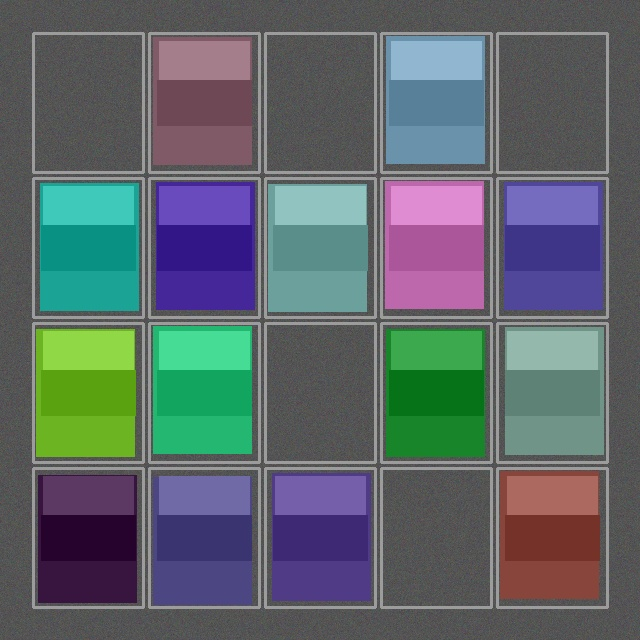space-empty: (35, 35, 141, 170), (267, 35, 373, 170), (499, 35, 605, 170), (267, 325, 373, 460), (383, 470, 489, 605)
space-occupied: (151, 35, 257, 170), (383, 35, 489, 170), (35, 180, 141, 315), (151, 180, 257, 315), (267, 180, 373, 315), (383, 180, 489, 315), (499, 180, 605, 315), (35, 325, 141, 460), (151, 325, 257, 460), (383, 325, 489, 460), (499, 325, 605, 460), (35, 470, 141, 605), (151, 470, 257, 605), (267, 470, 373, 605), (499, 470, 605, 605)
